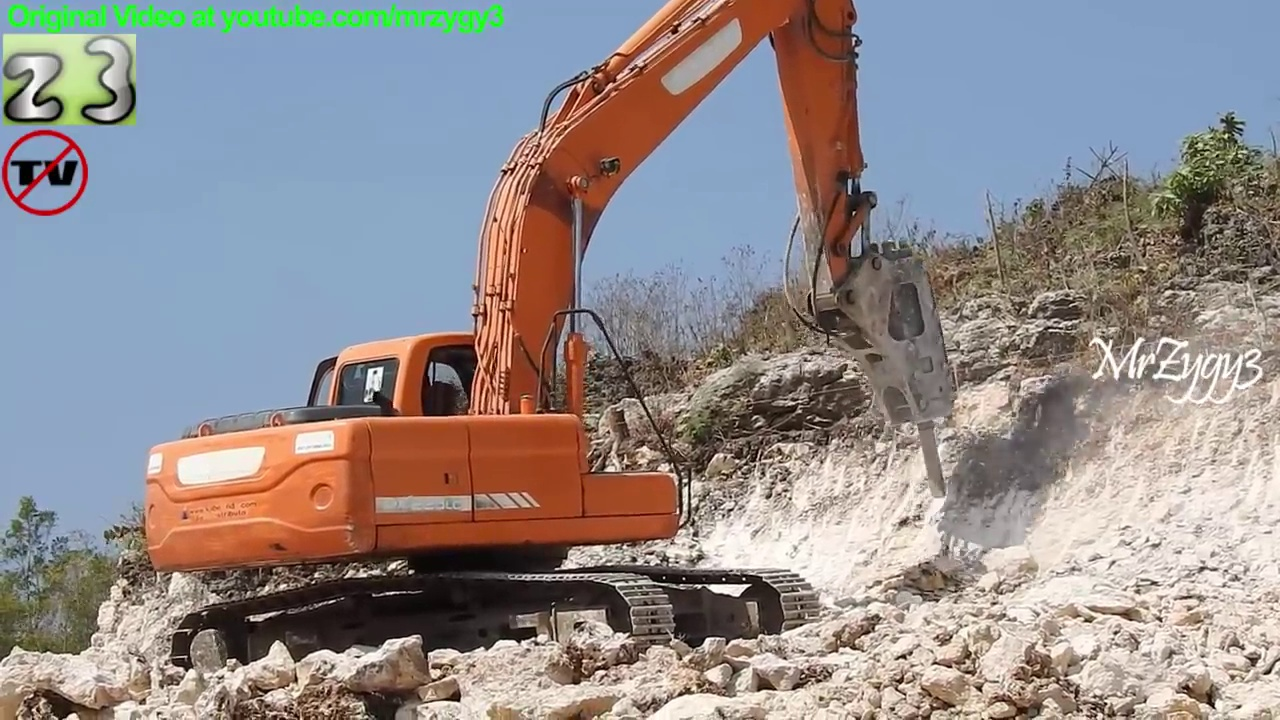excavator breaker: (136, 1, 974, 689)
